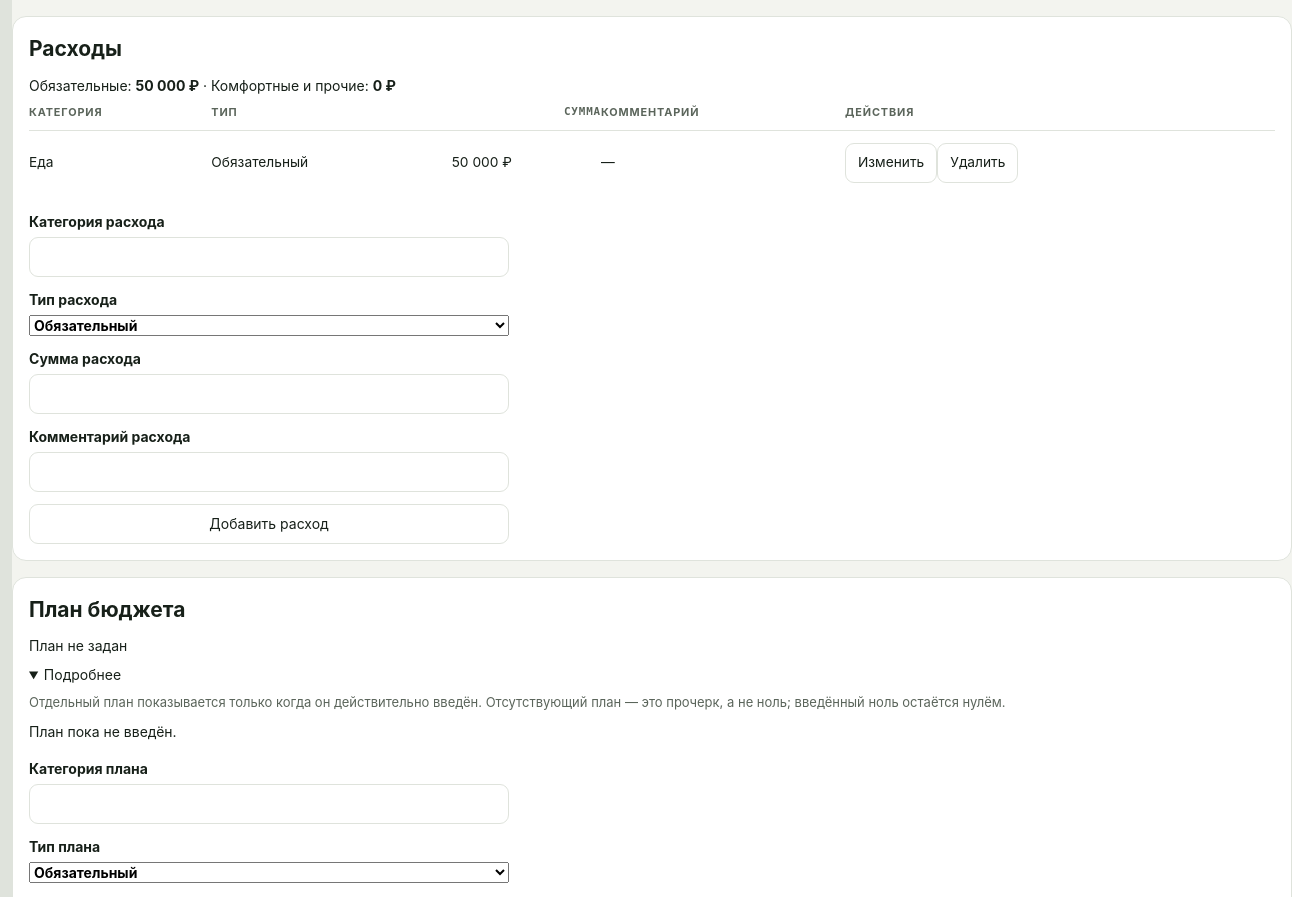
Test: UiV2MonthBudgetSection mutations and guards › blocks a second submit while the first request is in flight
Type "Еда" into the field labelled "Категория расхода" at x=269, y=257, box [29, 237, 509, 277]
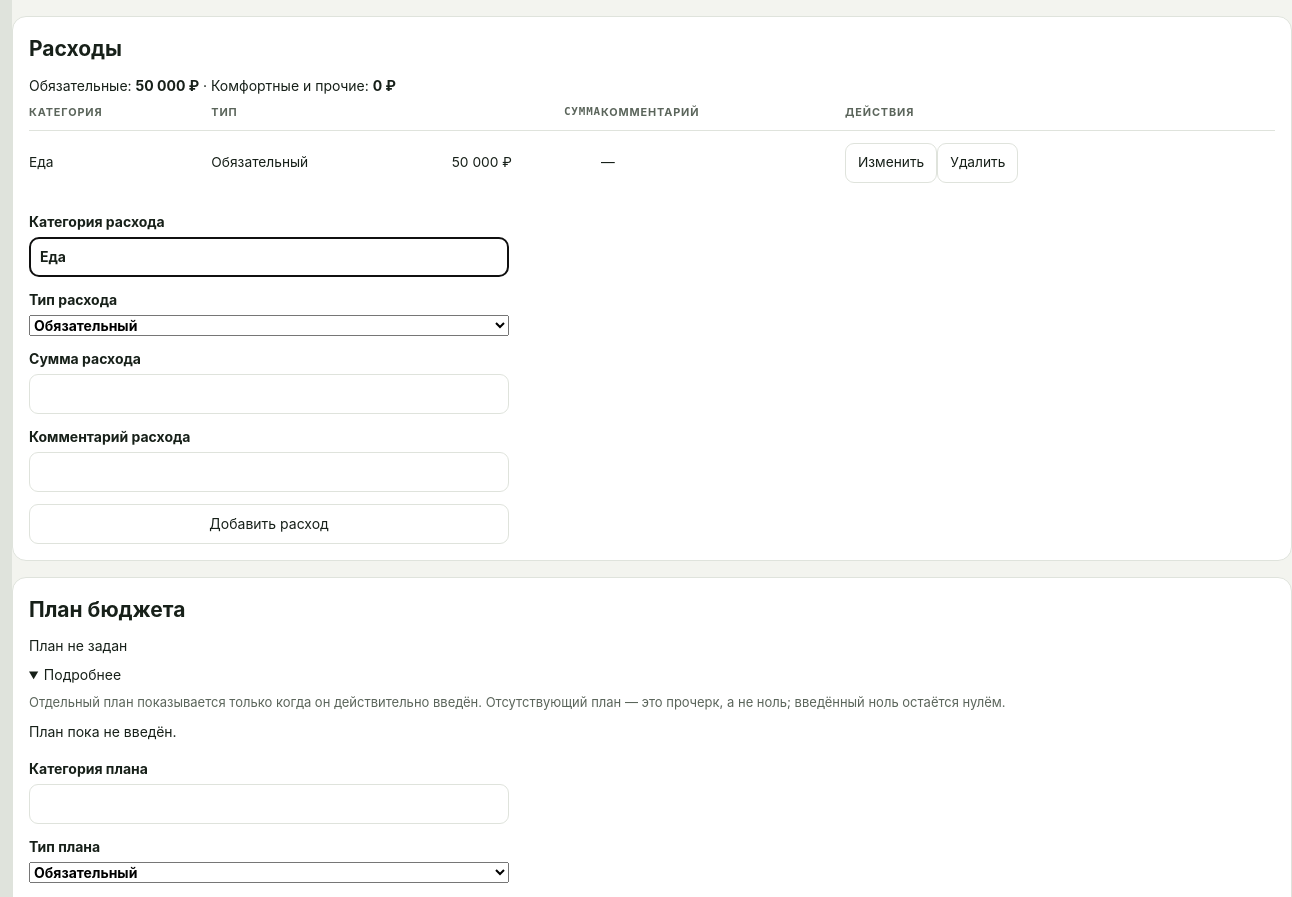
Type "50000" into the field labelled "Сумма расхода" at x=269, y=394, box [29, 374, 509, 414]
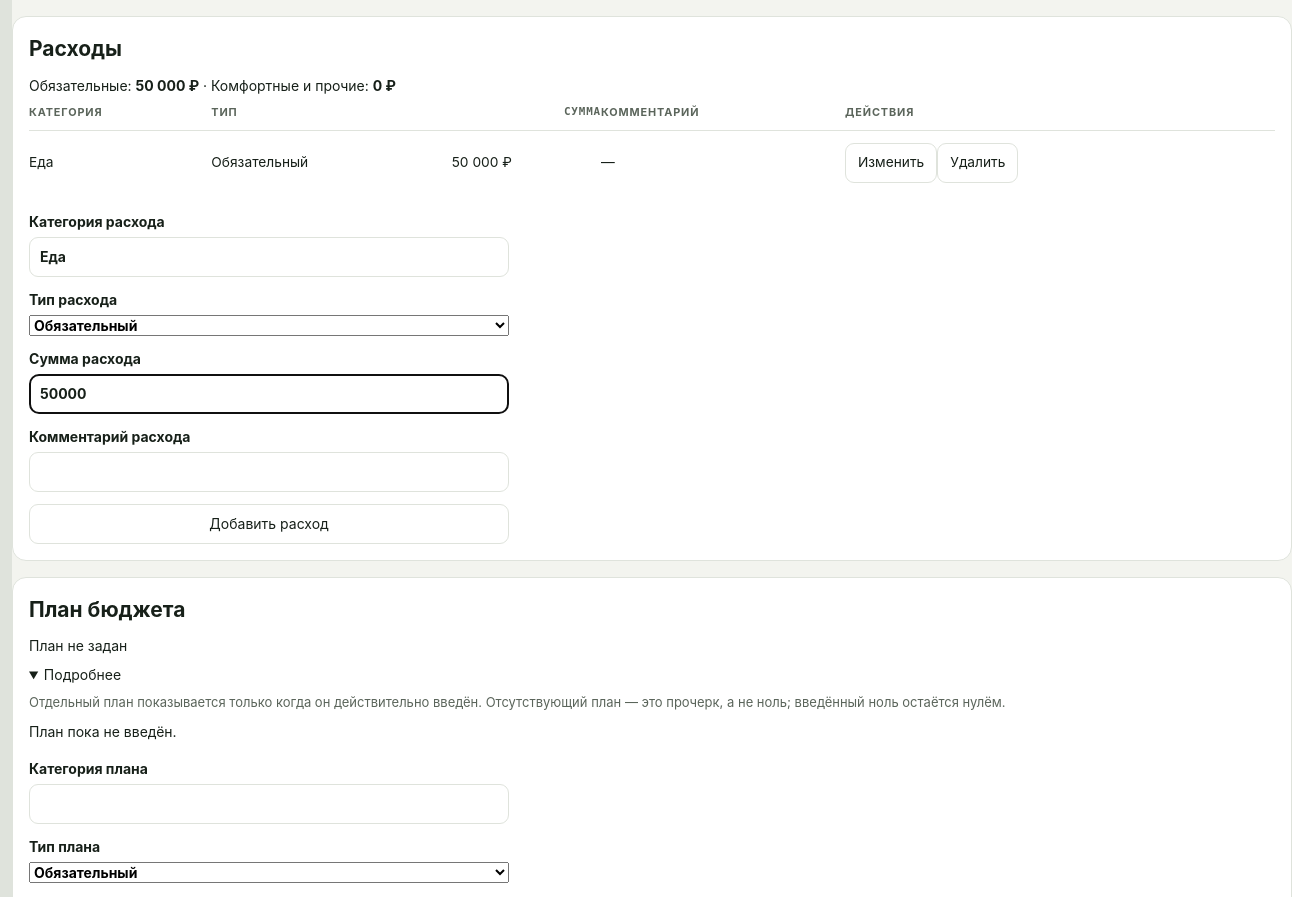
Click the button "Добавить расход" at x=269, y=524, box [29, 504, 509, 544]
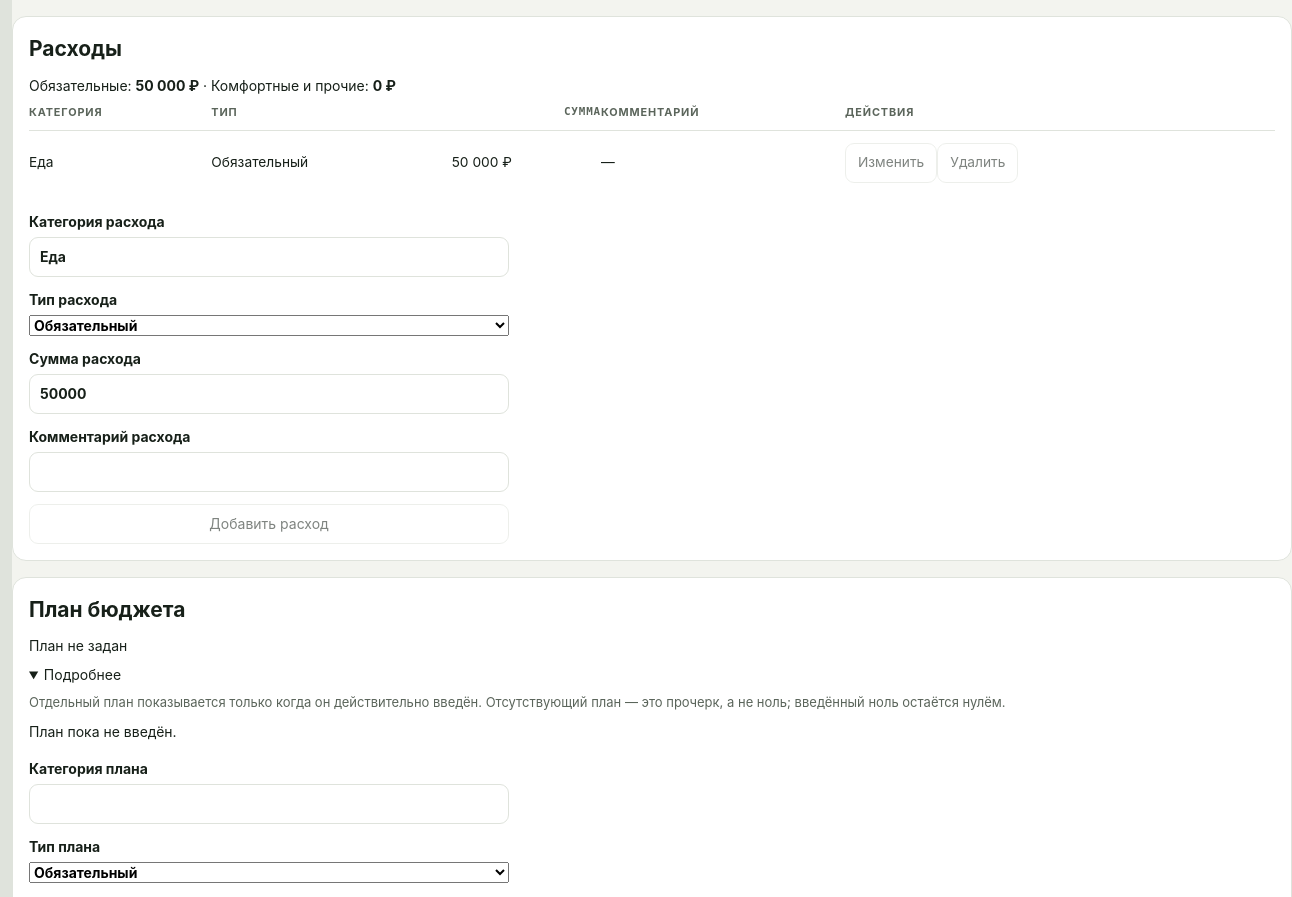
Click the button "Добавить расход" at x=269, y=524, box [29, 504, 509, 544]
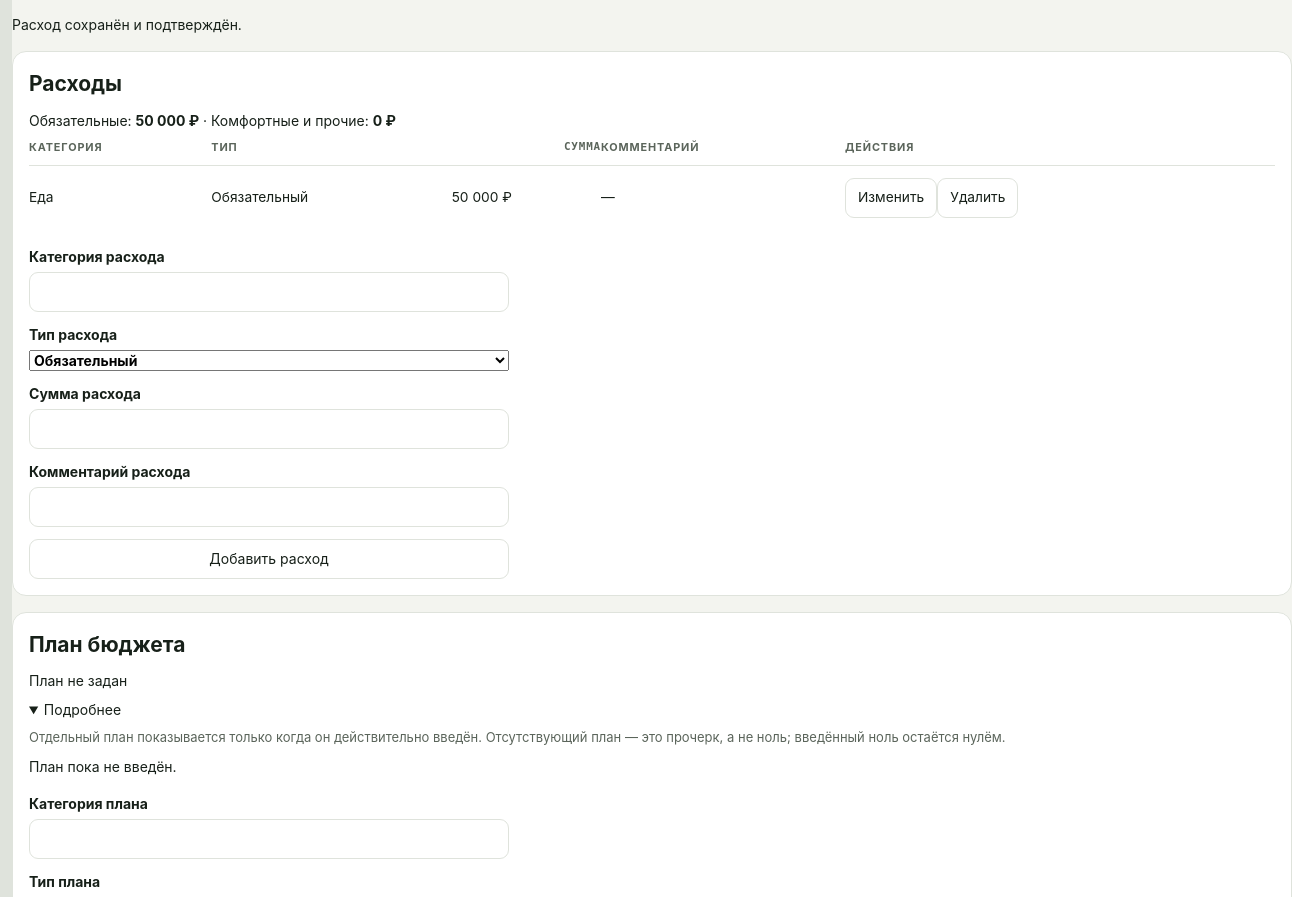
Check: the text "Расход сохранён и подтверждён." is shown, box [12, 16, 242, 33]
